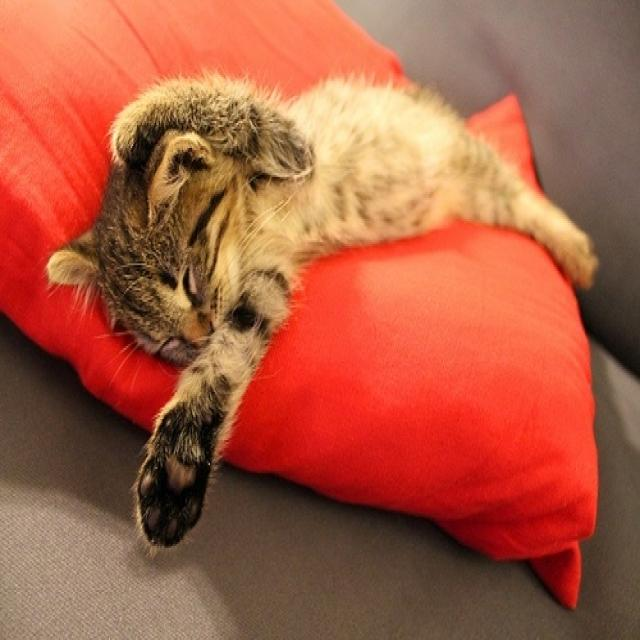cat: (47, 75, 596, 546)
